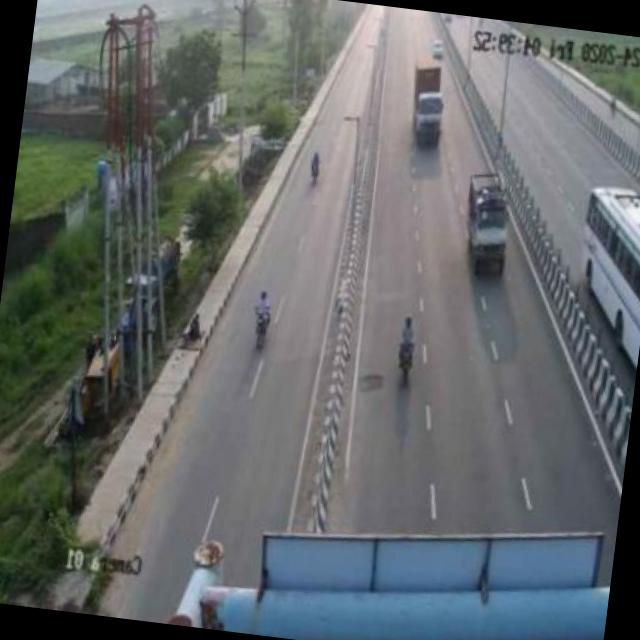car: (451, 160, 522, 280)
